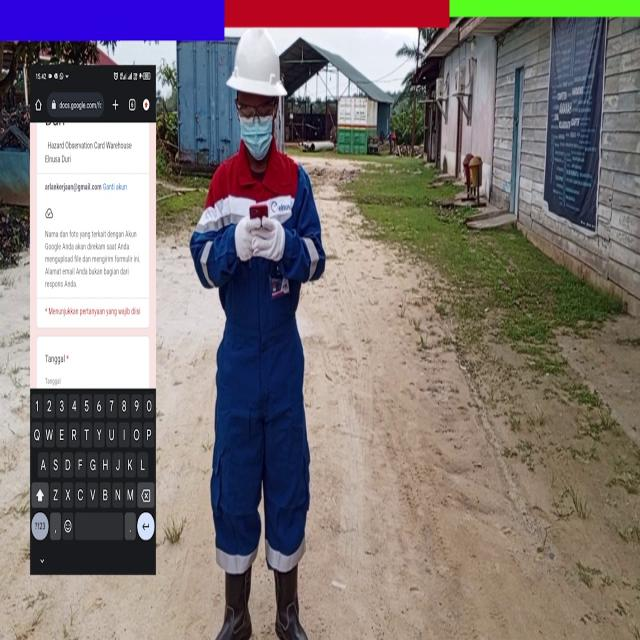Gloves: (254, 220, 286, 266), (233, 215, 258, 265)
Hardhat: (225, 35, 288, 108)
Mask: (240, 114, 273, 160)
Overall Suit: (190, 154, 326, 579)
Safety Boots: (274, 568, 305, 640), (217, 573, 250, 639)
